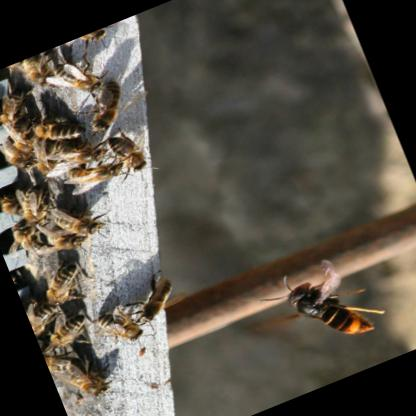asian: (252, 238, 399, 371)
